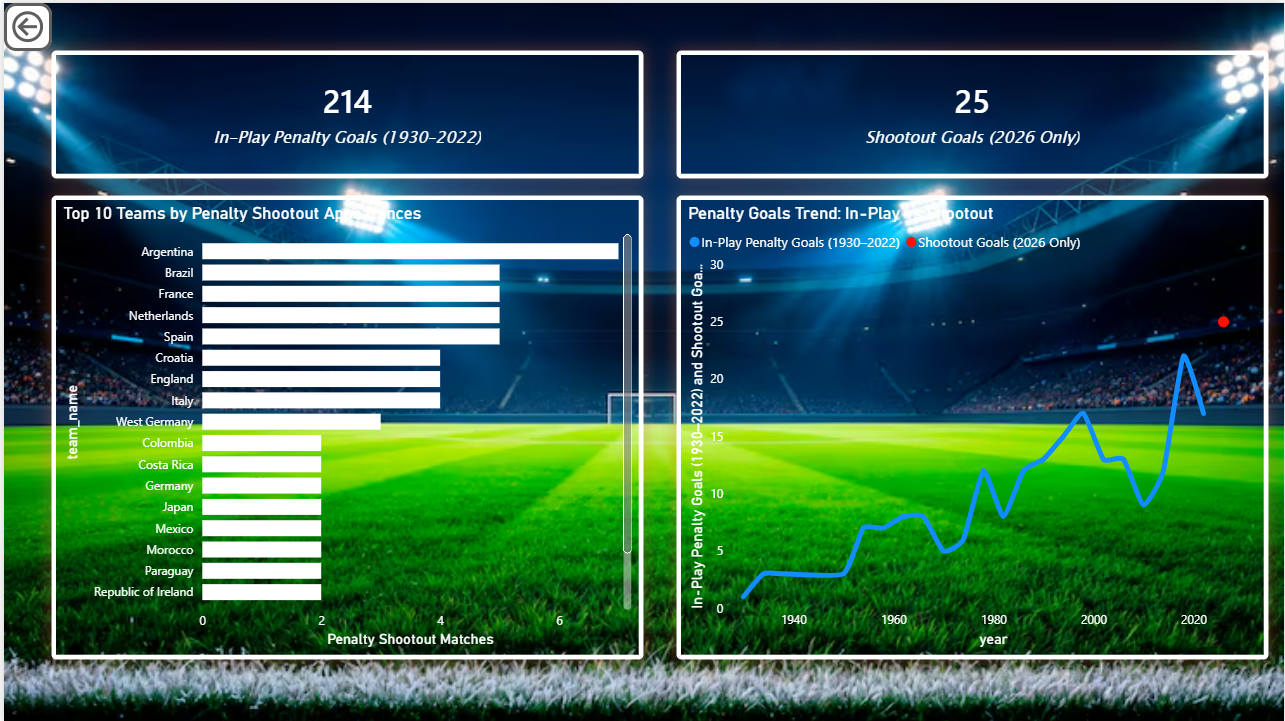

The page's visual inventory and layout, read from the dashboard file:
{"tool":"powerbi","page":{"name":"Penalties & Shootouts","canvas":[1280,720],"ordinal":3},"visuals":[{"type":"cardVisual","fields":{"Data":["Measure.In-Play Penalty Goals (1930–2022)"]},"box":[48,48,592,128],"z":0},{"type":"cardVisual","fields":{"Data":["Measure.Shootout Goals (2026 Only)"]},"box":[672,48,592,128],"z":1000},{"type":"clusteredBarChart","title":"Top 10 Teams by Penalty Shootout Appearances","fields":{"Category":["dim_team.team_name"],"Y":["Measure.Penalty Shootout Matches"]},"box":[48,192,592,464],"z":2000},{"type":"lineChart","title":"Penalty Goals Trend: In-Play vs Shootout","fields":{"Category":["dim_tournament.year"],"Y":["Measure.In-Play Penalty Goals (1930–2022)","Measure.Shootout Goals (2026 Only)"]},"box":[672,192,592,464],"z":3000},{"type":"actionButton","box":[0,0,48,48],"z":3001}]}

Visuals, with their boxes in screenshot pixels (x1, y1, x2, y2), scaled from the page's 1280x720 canvas onto the 1285x721 screenshot:
cardVisual - Measure.In-Play Penalty Goals (1930–2022): [x1=48, y1=48, x2=642, y2=176]
cardVisual - Measure.Shootout Goals (2026 Only): [x1=675, y1=48, x2=1269, y2=176]
"Top 10 Teams by Penalty Shootout Appearances" clusteredBarChart: [x1=48, y1=192, x2=642, y2=657]
"Penalty Goals Trend: In-Play vs Shootout" lineChart: [x1=675, y1=192, x2=1269, y2=657]
actionButton: [x1=0, y1=0, x2=48, y2=48]
